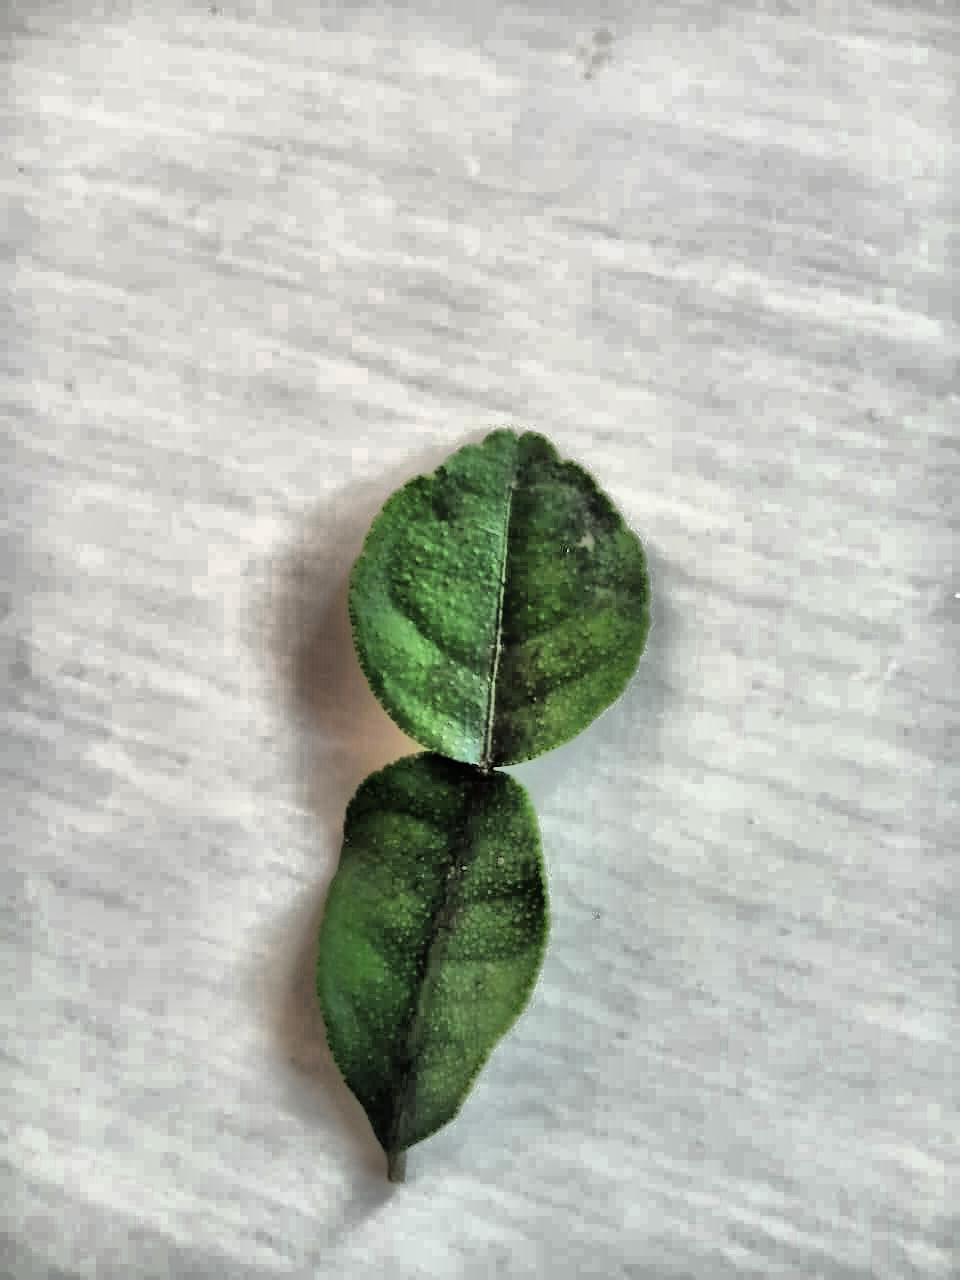daun jeruk: (316, 430, 649, 1180)
